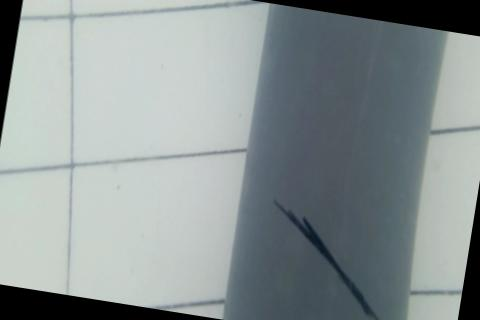keretakan: (252, 196, 404, 320)
